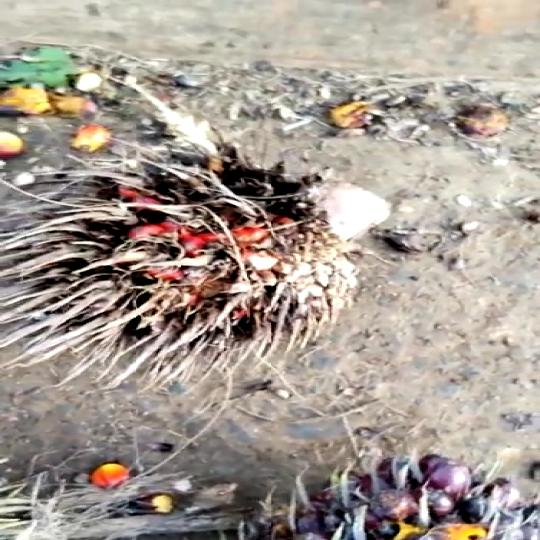terlalu masak: (0, 137, 414, 379)
